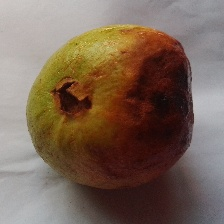guava: (15, 12, 206, 204)
